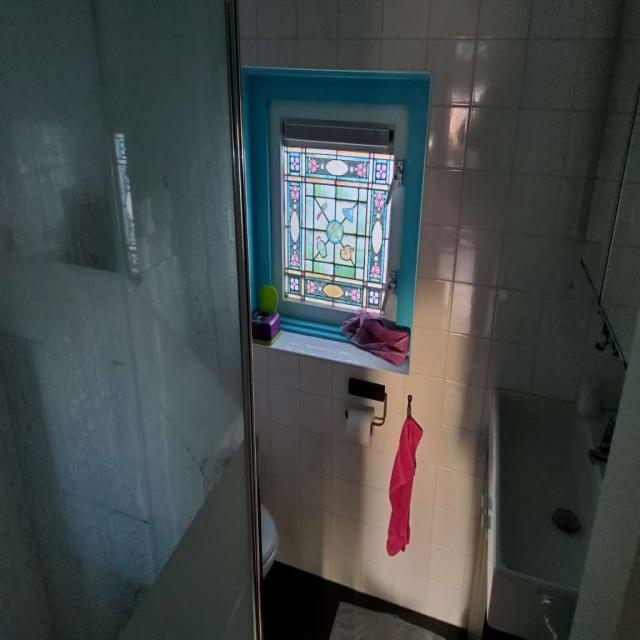douche: (0, 0, 263, 640)
toilet: (254, 499, 280, 584)
wastafel: (492, 383, 618, 598), (468, 429, 570, 640)
